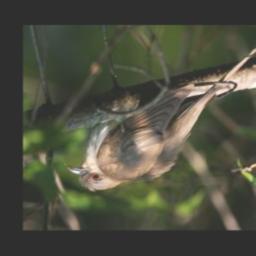Cuckoo: (65, 35, 256, 193)
